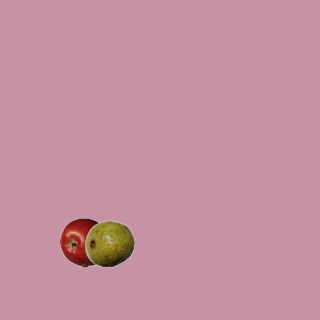Apple Braeburn: (59, 217, 109, 267)
Guava: (84, 218, 134, 268)
